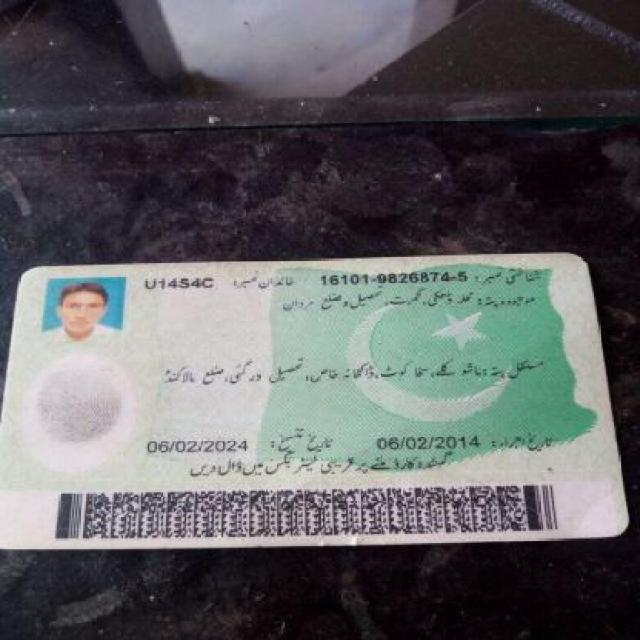Back: (5, 257, 609, 540)
